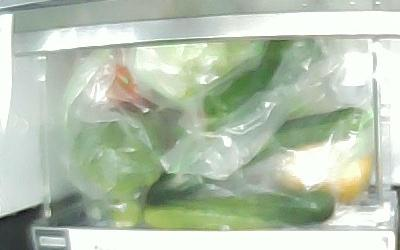apple_vinyl: (108, 64, 144, 106)
broccoli_vinyl: (71, 113, 164, 230)
cucumber_vinyl: (146, 105, 371, 208), (143, 191, 334, 231)
grapefruit_vinyl: (273, 154, 371, 206)
lettuce_vinyl: (132, 41, 267, 103)
paprika_vinyl: (195, 55, 299, 130)
